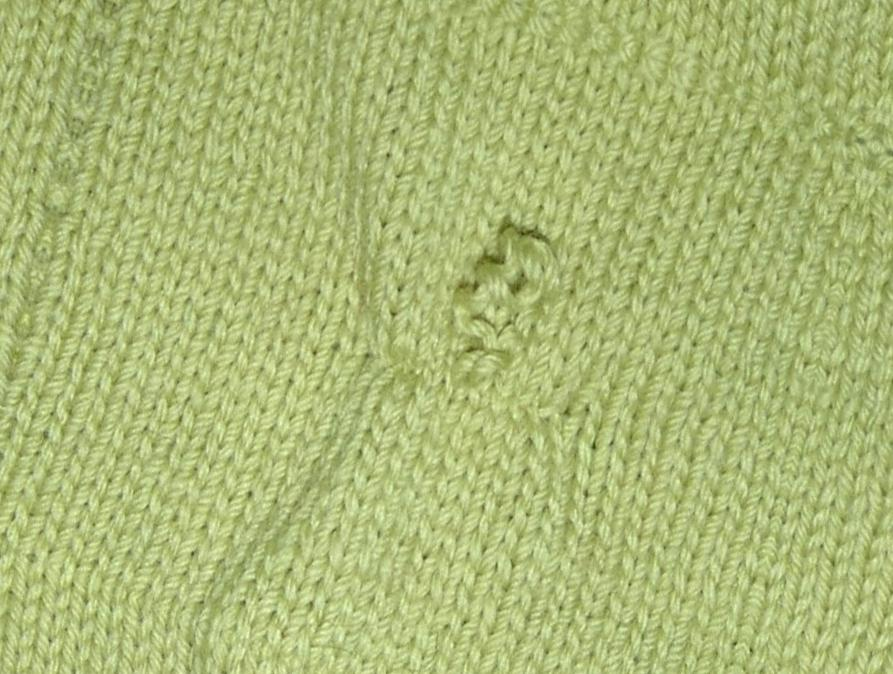knot: (450, 221, 563, 375)
